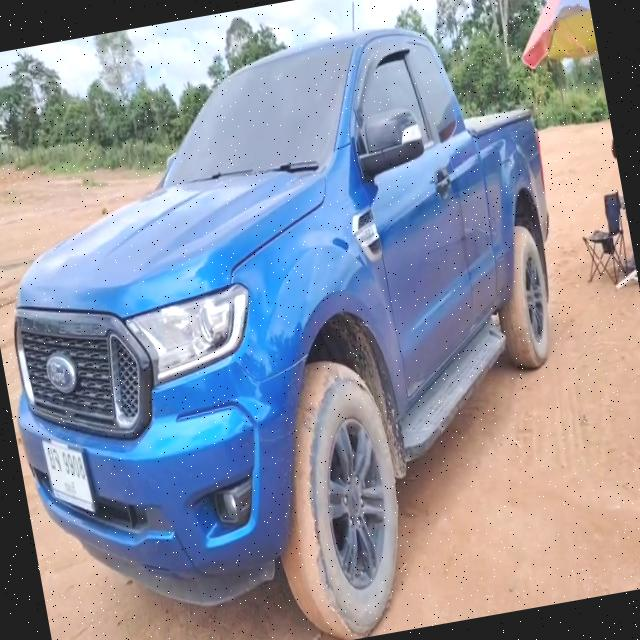Digit: (61, 452, 86, 480)
Licenseplate: (41, 438, 97, 514)
Provincename: (63, 480, 78, 497)
Thaichar: (46, 446, 63, 472)
